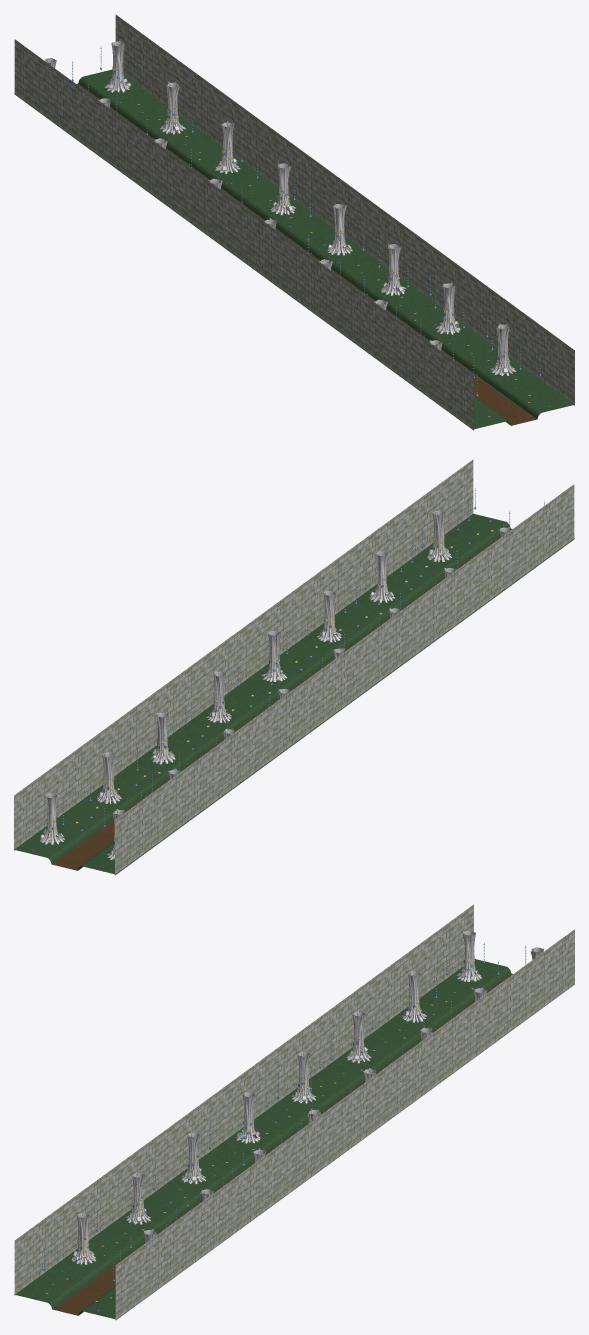
Rendered from joymap.fbx.
3 renders of one model, top to bottom at view 1: azimuth 30°, elevation 25°; view 2: azimuth 150°, elevation 25°; view 3: azimuth 330°, elevation 25°, orthographic.
Visible parts, largest first — view 1: joymap; view 2: joymap; view 3: joymap.
Boxes of the visible parts, box(x1,y1,x2,y2) form: joymap: box(14, 14, 574, 430); joymap: box(14, 459, 574, 875); joymap: box(14, 904, 574, 1320).
Size of the model in its own units: 1921 by 1083 by 15000.
